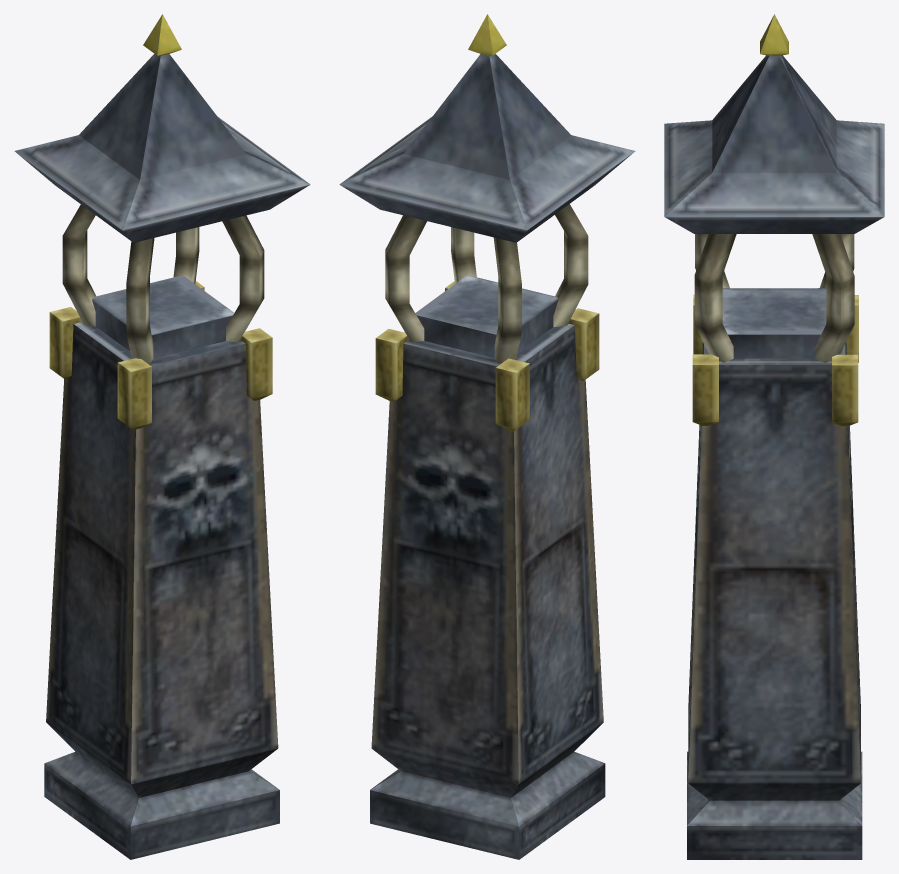
Rendered from ob-11-02-stonelight02.fbx.
3 renders of one model, left to right at view 1: azimuth 30°, elevation 25°; view 2: azimuth 150°, elevation 25°; view 3: azimuth 270°, elevation 25°, orthographic.
Visible parts, largest first — view 1: ob-11-02-stonelight; view 2: ob-11-02-stonelight; view 3: ob-11-02-stonelight.
Part boxes in pixels (x1,y1,x2,y2): ob-11-02-stonelight: (14, 14, 310, 859); ob-11-02-stonelight: (339, 14, 635, 859); ob-11-02-stonelight: (664, 14, 884, 859).
Size of the model in its own units: 1.9 by 7.69 by 1.9.
